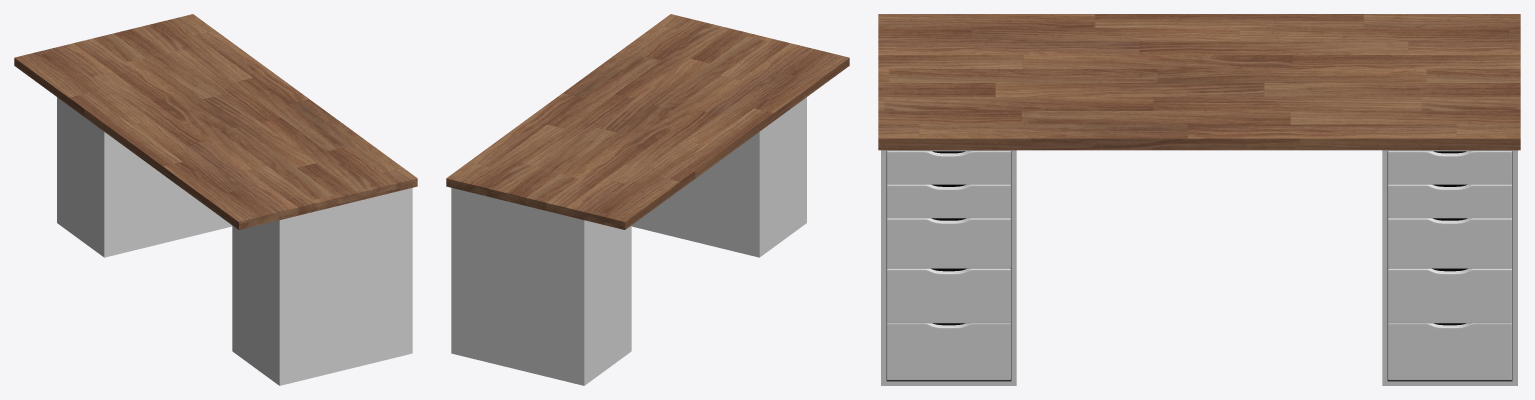
Rendered from alex_desk_0.79Dx1.7Wx0.73H-transformed.glb.
The picture shows the model from 3 angles, left to right: view 1: azimuth 30°, elevation 25°; view 2: azimuth 150°, elevation 25°; view 3: azimuth 270°, elevation 25°; orthographic projection. The views are drawn at different scales.
Visible parts, largest first — view 1: Plane; view 2: Plane; view 3: Plane.
Boxes of the visible parts, x1,y1,x2,y2 form: Plane: (14, 14, 417, 385); Plane: (446, 14, 849, 385); Plane: (878, 14, 1520, 385).
Bounding box in the file's own units: 30.75 × 28.72 × 66.88.
Materials: 3 (1 with a texture image).
